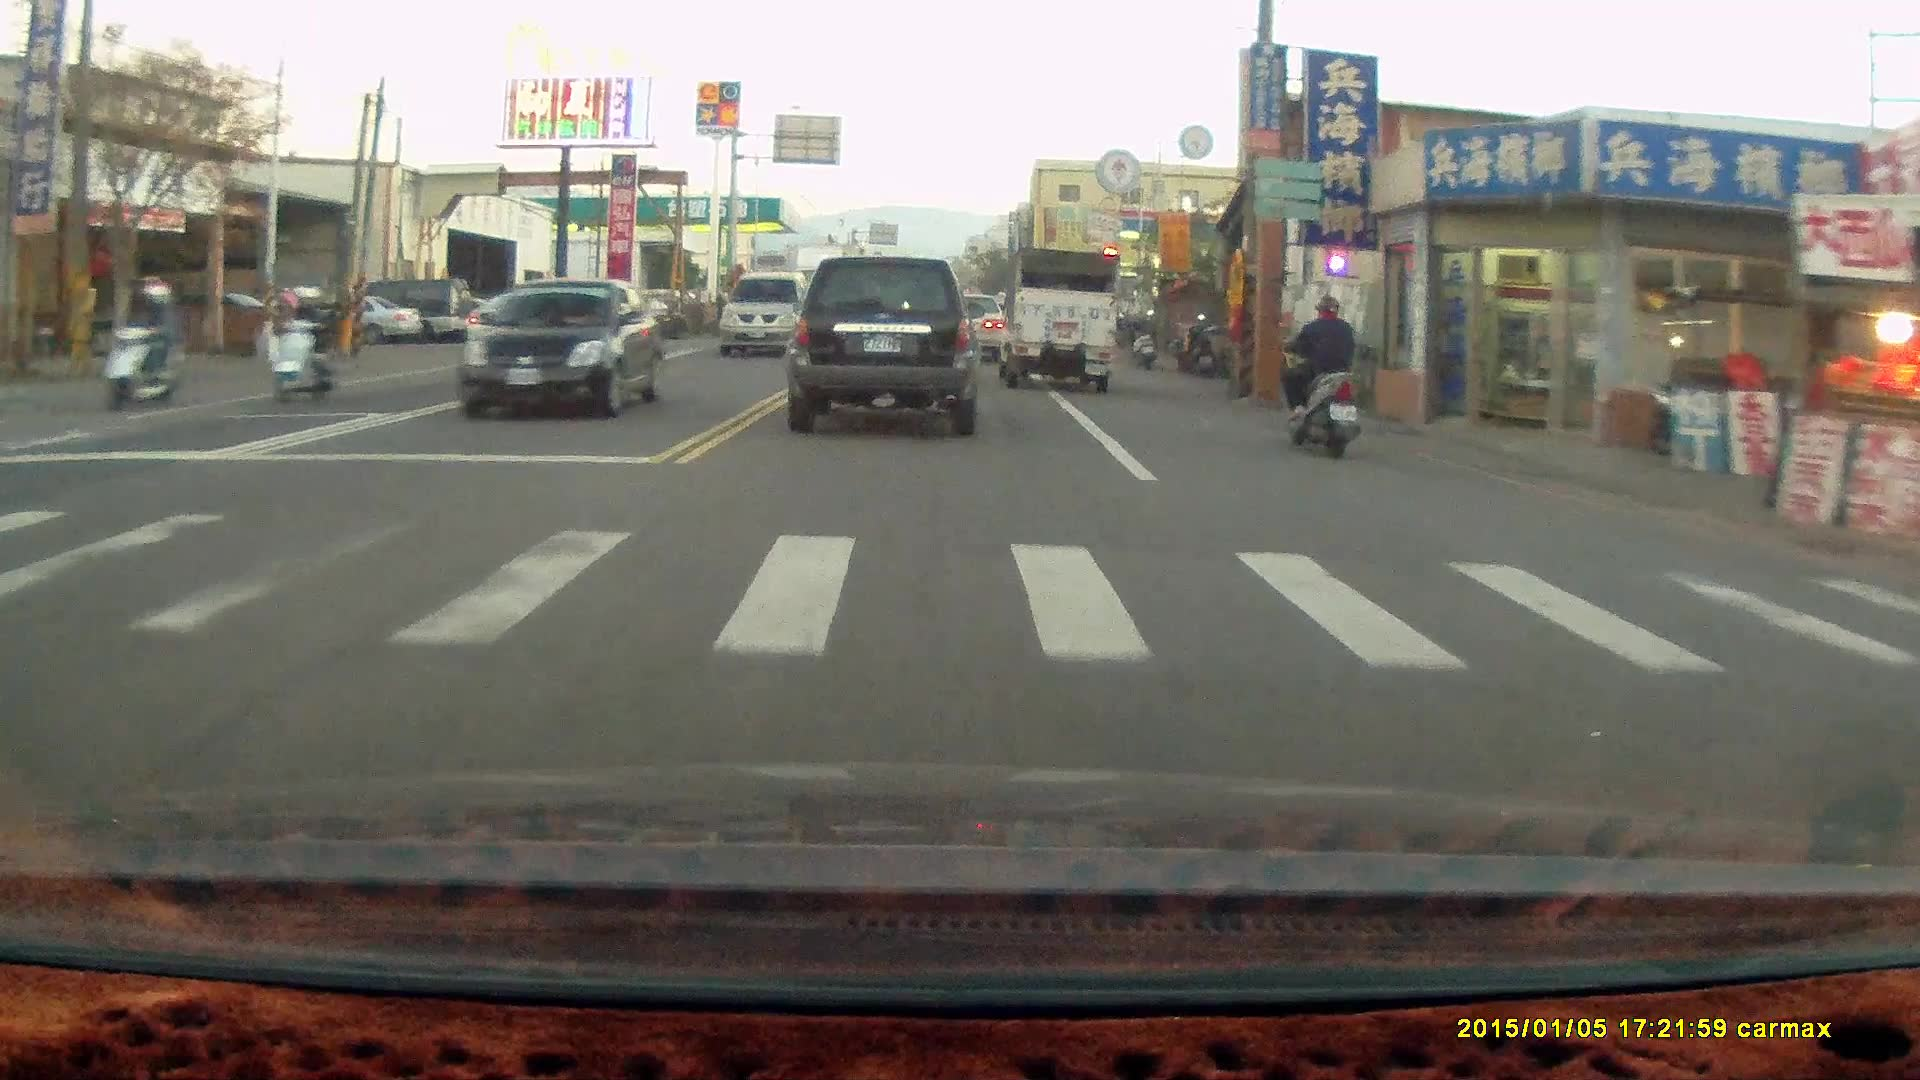rider: (1271, 277, 1363, 444), (98, 275, 183, 412), (263, 276, 348, 400)
vehicle: (784, 253, 983, 434), (461, 276, 667, 416), (993, 245, 1117, 393), (717, 268, 817, 357), (476, 288, 593, 353)
